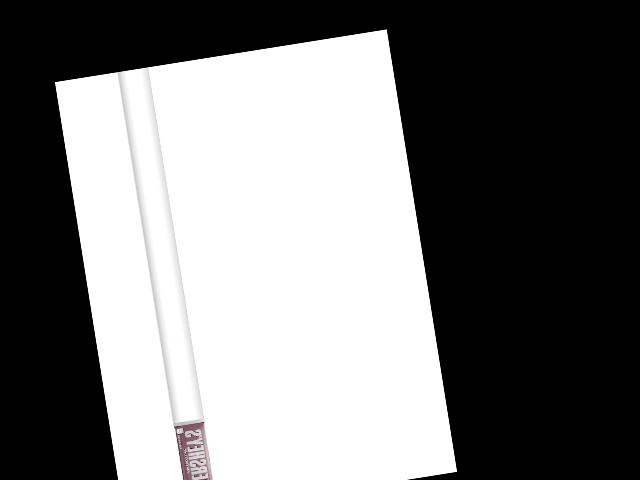chocolate: (169, 418, 214, 480)
